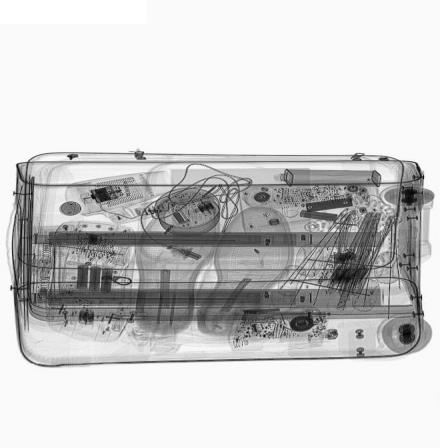Lighter: (55, 283, 119, 319)
